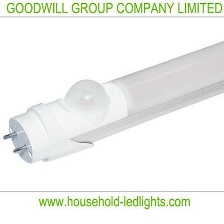light_bulb: (2, 27, 224, 164)
